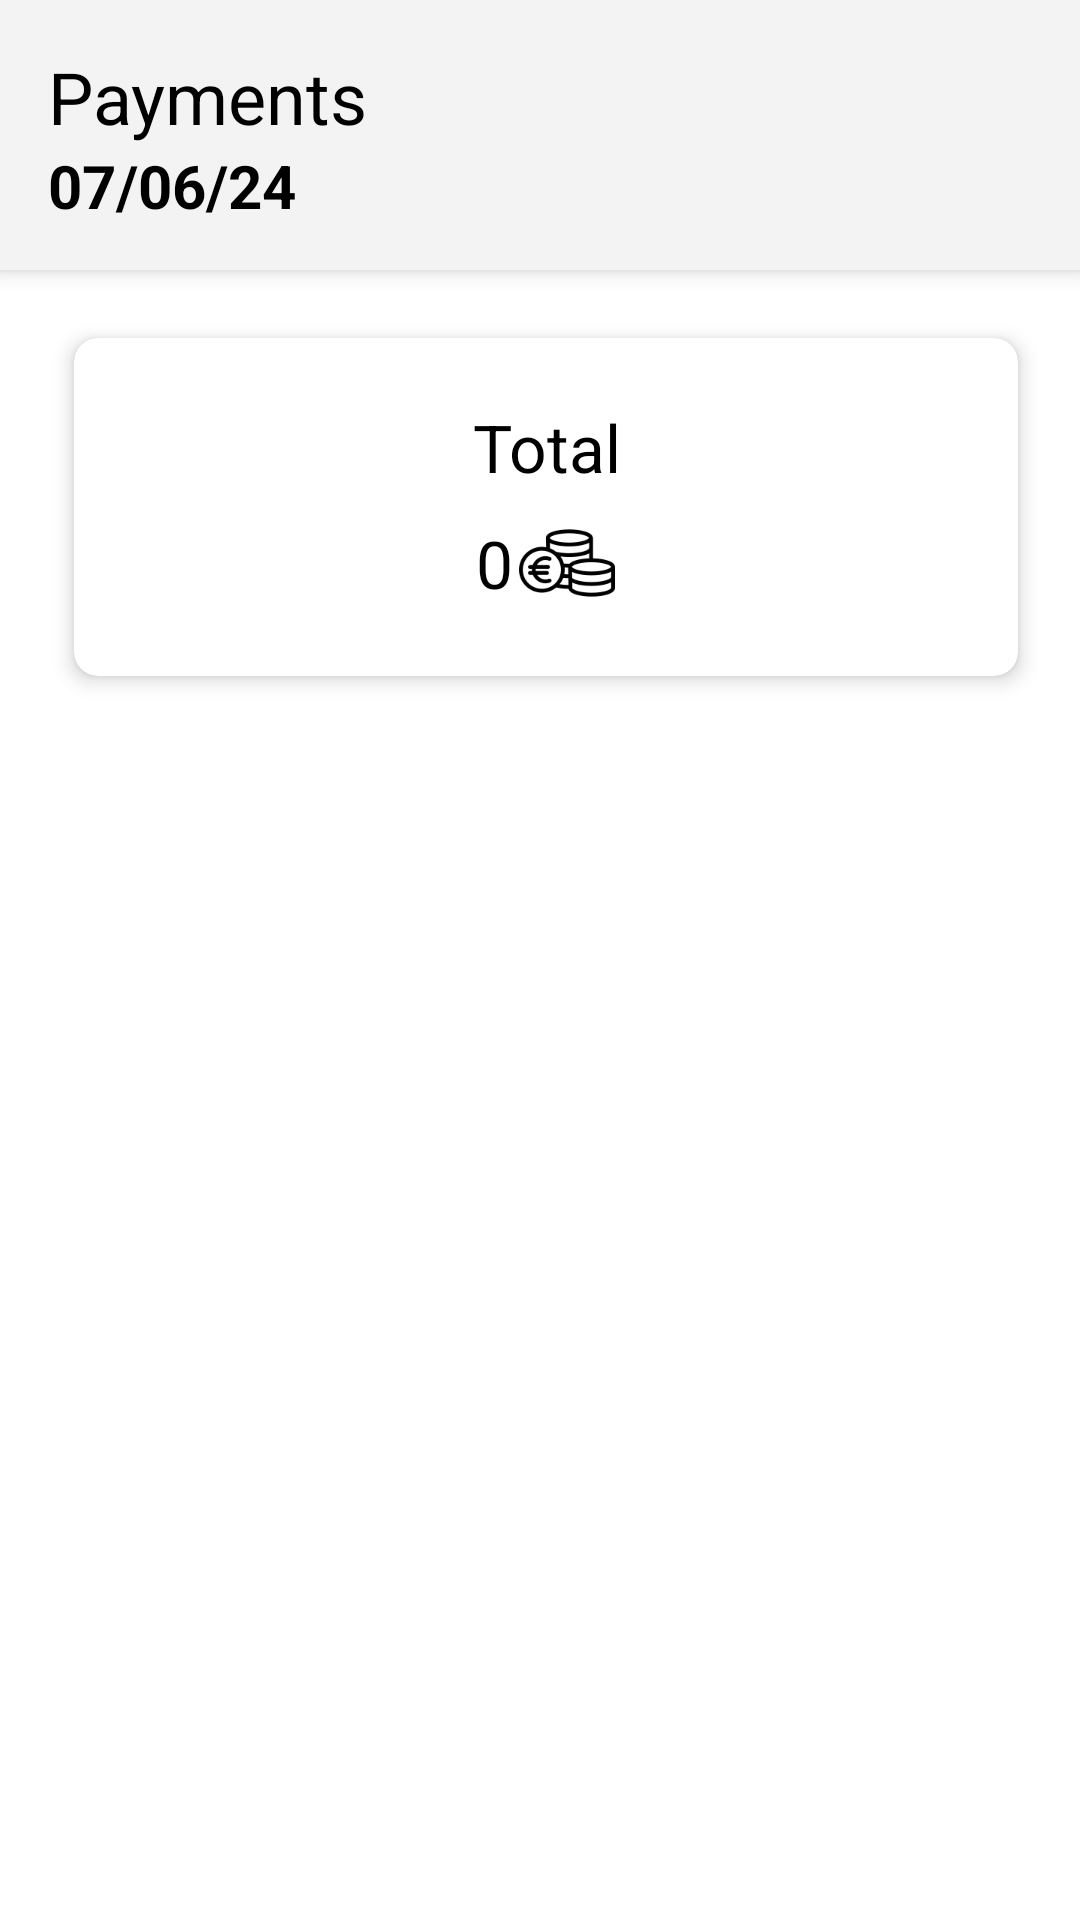

Where icons sit on this 1080x1920 app screen, as (x1, y1, x2, y2):
img euro: (519, 529, 615, 597)
